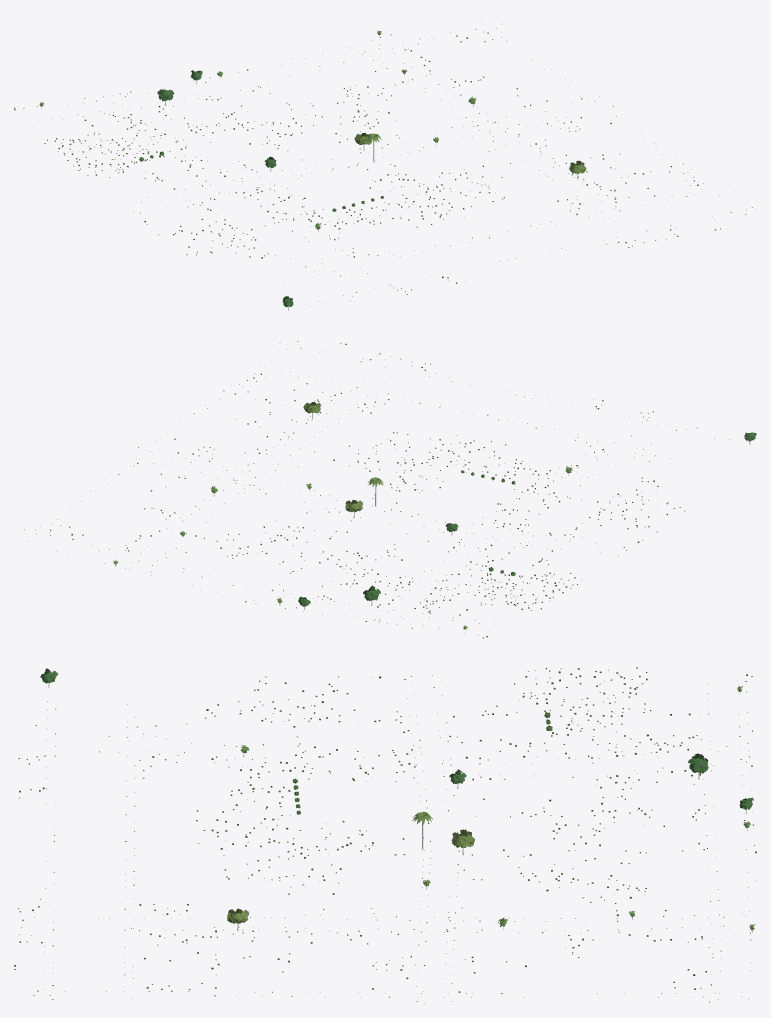
Rendered from Vegetation.fbx.
3 renders of one model, top to bottom at view 1: azimuth 30°, elevation 25°; view 2: azimuth 150°, elevation 25°; view 3: azimuth 270°, elevation 25°, orthographic. The views are drawn at different scales.
Visible parts, largest first — view 1: EXPORT_OT_Vegetation_SA_M01_01_S00_02; view 2: EXPORT_OT_Vegetation_SA_M01_01_S00_02; view 3: EXPORT_OT_Vegetation_SA_M01_01_S00_02.
Part boxes in pixels (x1,y1,x2,y2): EXPORT_OT_Vegetation_SA_M01_01_S00_02: (14, 18, 756, 310); EXPORT_OT_Vegetation_SA_M01_01_S00_02: (24, 341, 756, 638); EXPORT_OT_Vegetation_SA_M01_01_S00_02: (14, 667, 756, 1003).
Bounding box in the file's own units: 249 × 15.02 × 250.
